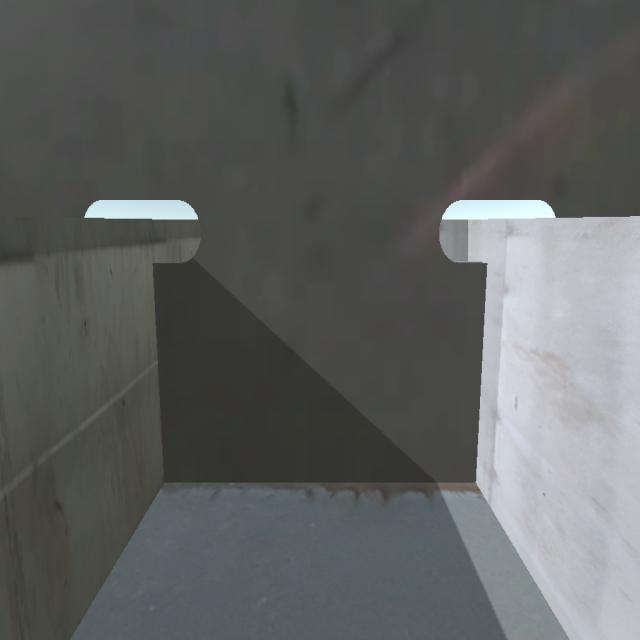fillet_yong_jeop_jang: (155, 467, 492, 498)
longi_yong_jeop_jang: (144, 257, 176, 490), (466, 257, 492, 496)
